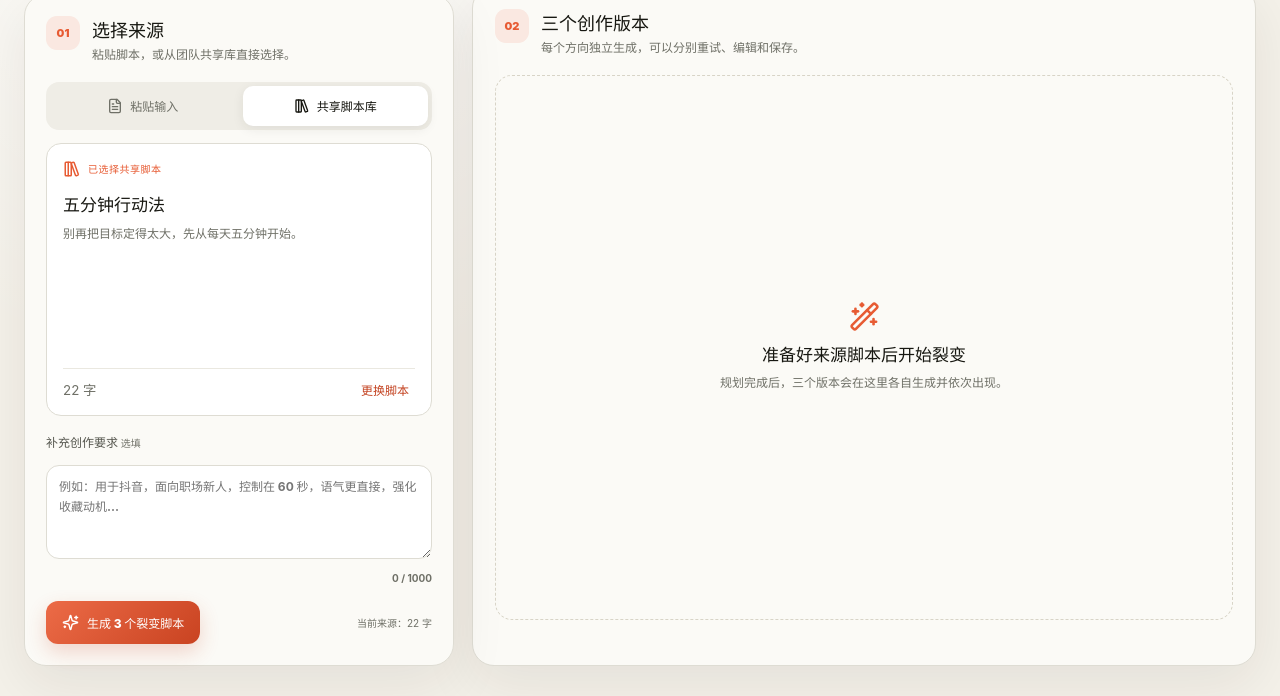
Test: ScriptFissionPage › preselects a shared script from the URL and sends only its id
This screenshot has width=1280, height=696.
(page scrolled)
Expected: the heading "五分钟行动法" is shown, left=63, top=195, right=165, bottom=215
Click the button "生成 3 个裂变脚本" at (123, 622), box left=46, top=601, right=200, bottom=644
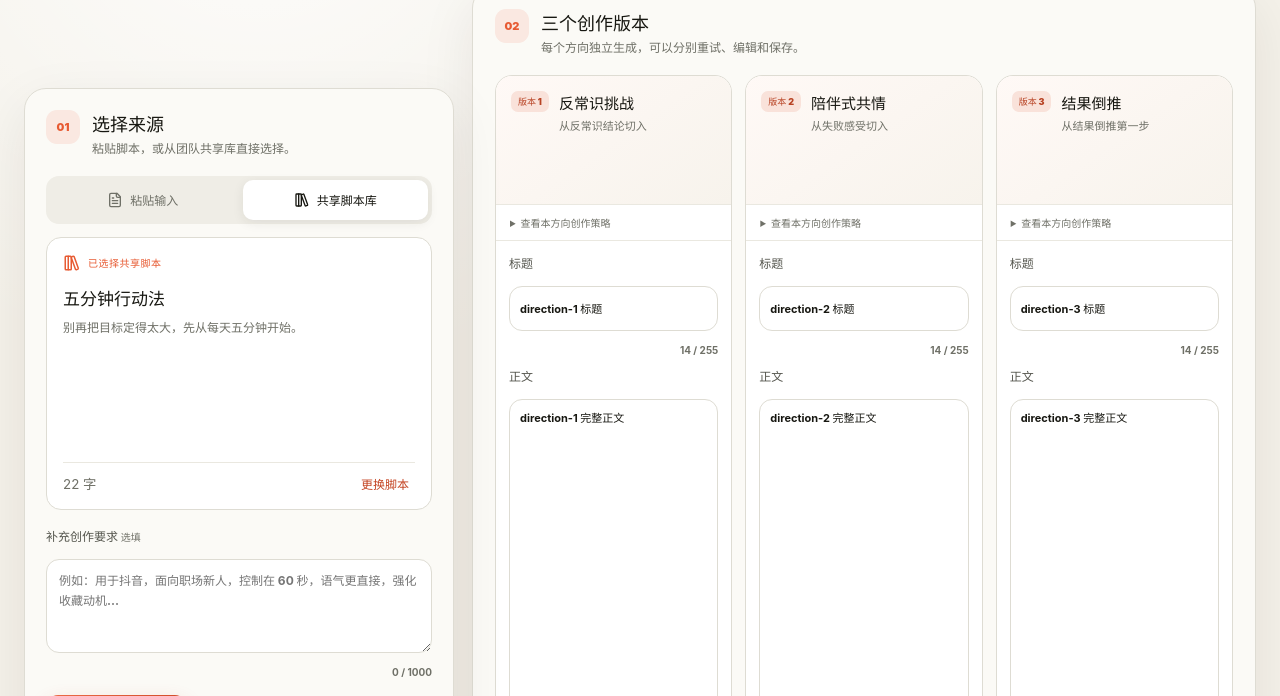
Expected: the field named "版本 1 标题" is shown, left=509, top=286, right=718, bottom=331
